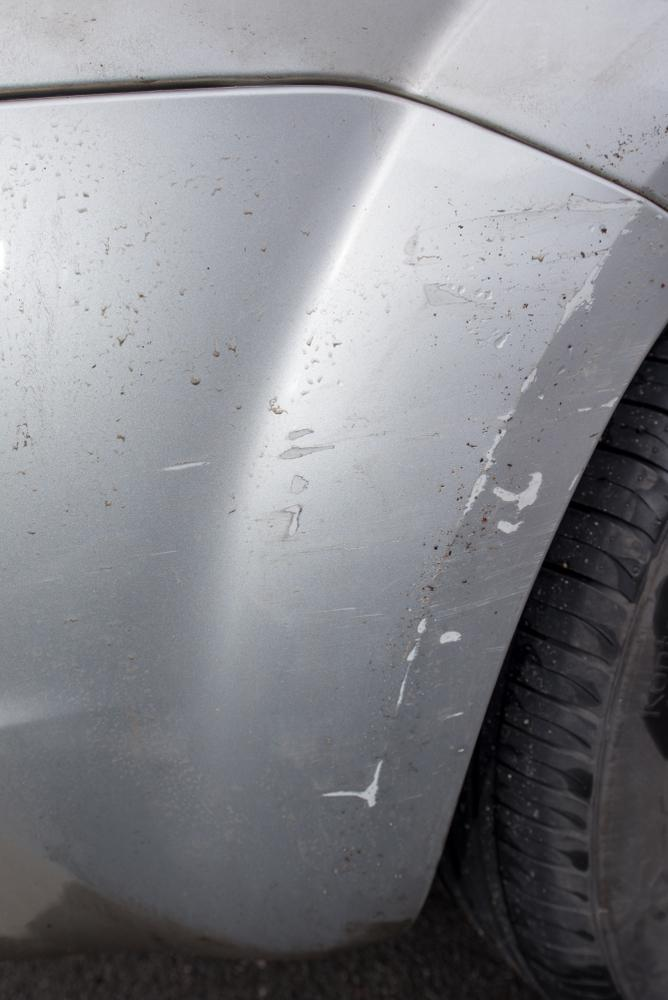scratch: (170, 195, 664, 806)
